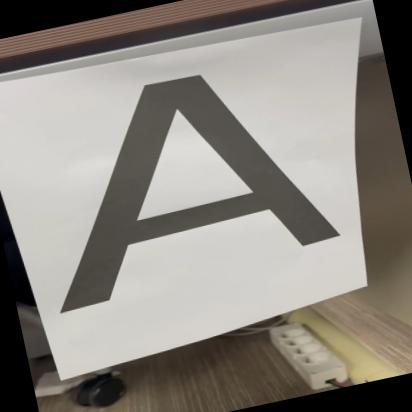seat: (10, 34, 354, 315)
